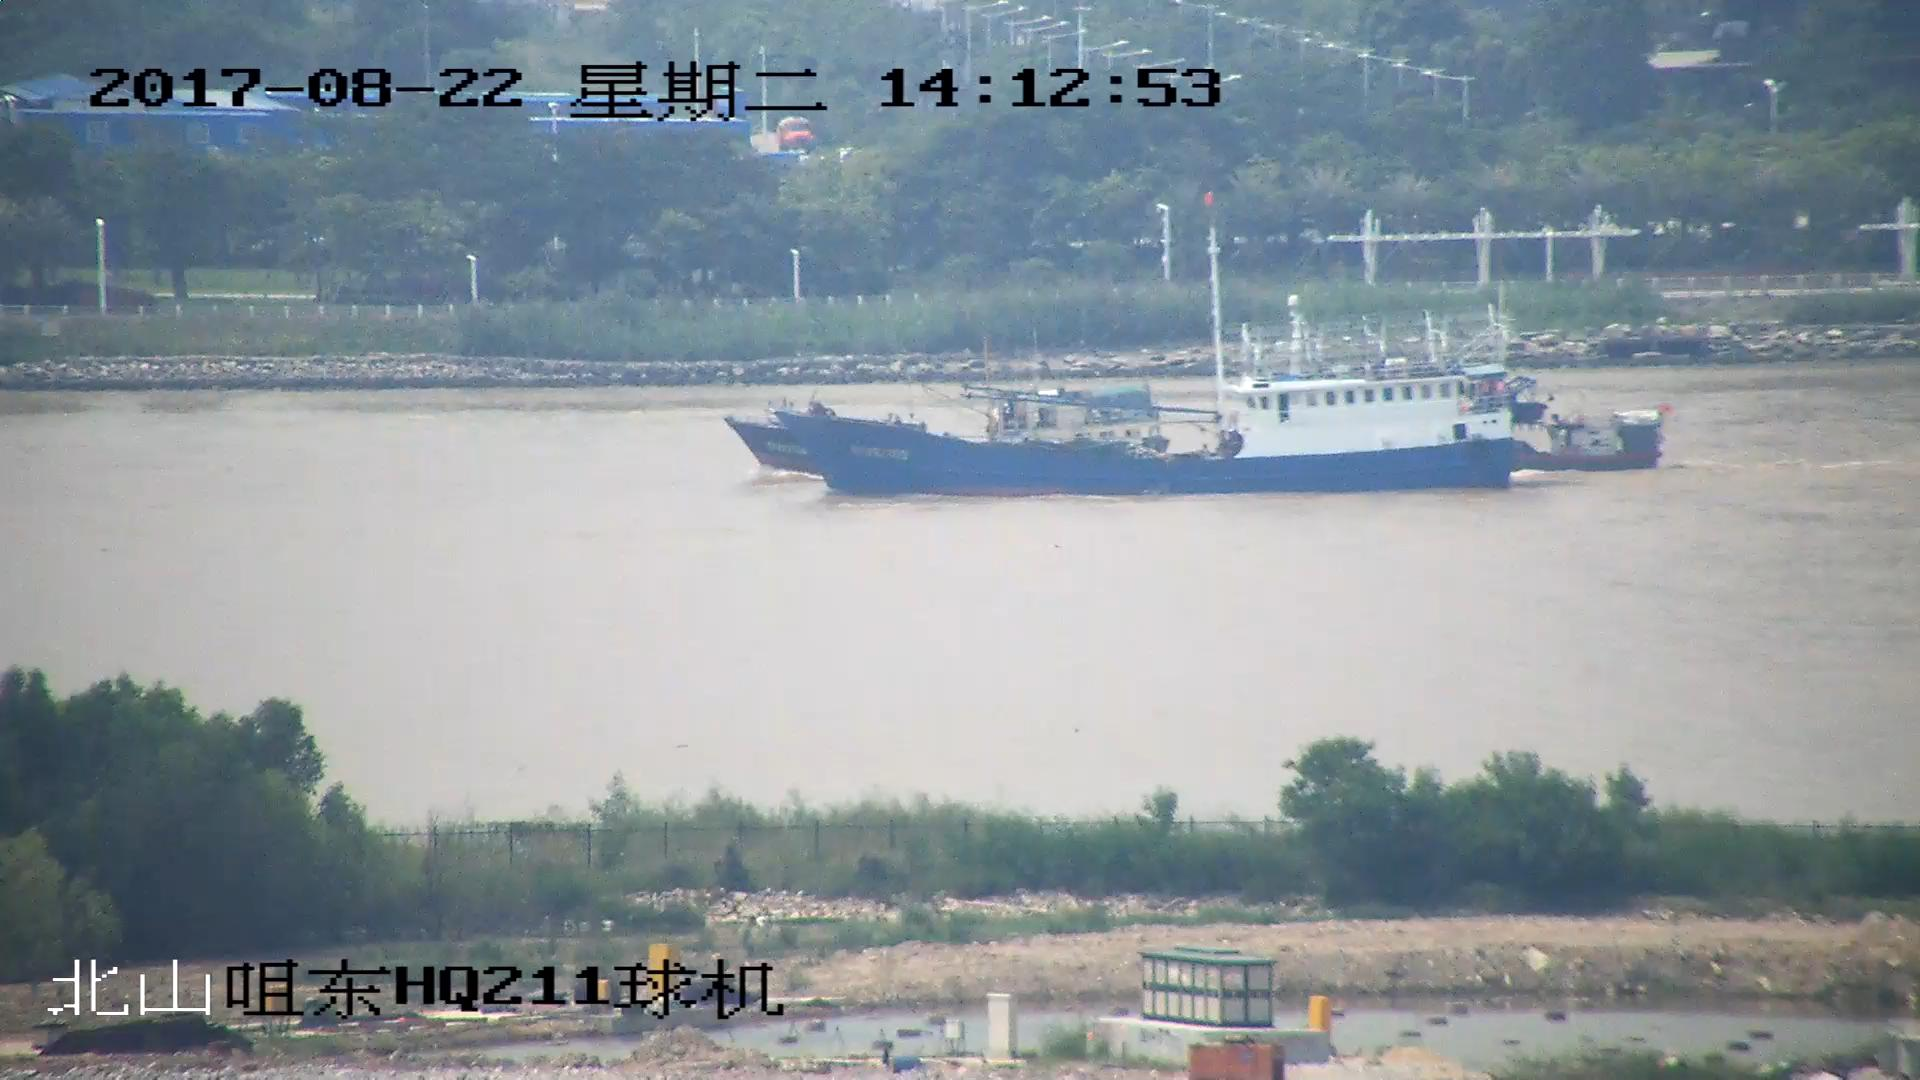fishing boat: (738, 191, 1538, 491), (731, 371, 1163, 471), (1514, 397, 1668, 478)
